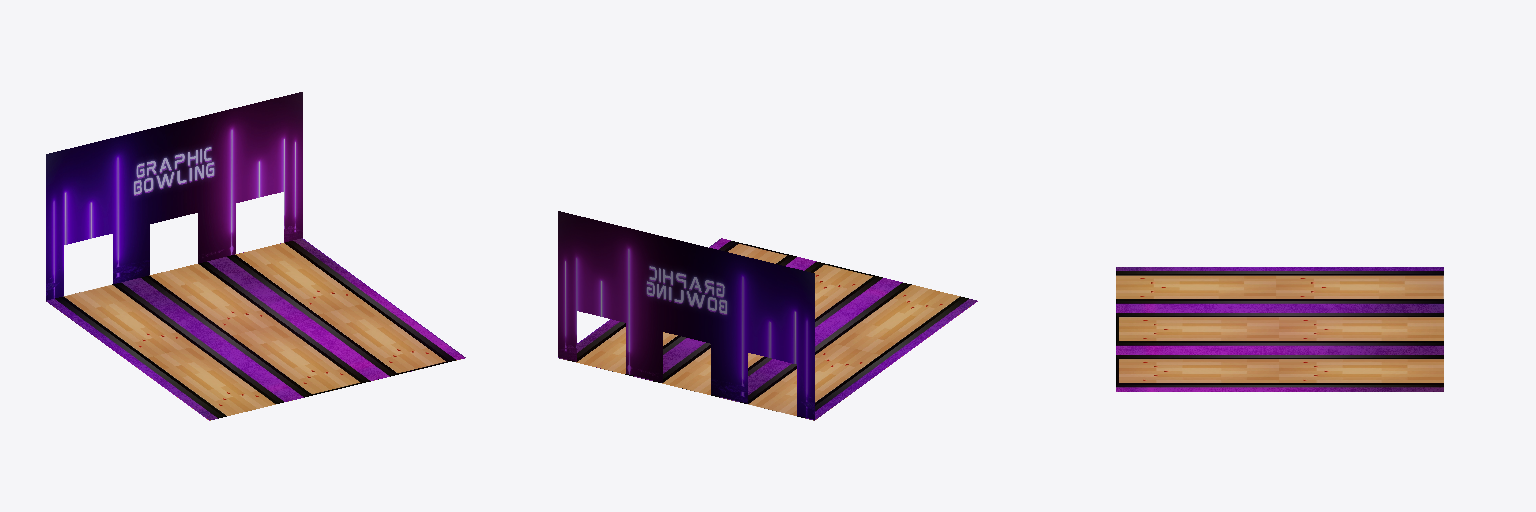
3 views of the same model, side by side, from view 1: azimuth 30°, elevation 25°; view 2: azimuth 150°, elevation 25°; view 3: azimuth 270°, elevation 25° (orthographic).
Visible parts, largest first — view 1: floor, Plane; view 2: Plane, floor; view 3: floor.
Boxes of the visible parts, x1=… form: floor: x1=46, y1=238, x2=465, y2=420; Plane: x1=46, y1=92, x2=302, y2=300; Plane: x1=558, y1=211, x2=814, y2=419; floor: x1=558, y1=238, x2=977, y2=420; floor: x1=1116, y1=267, x2=1443, y2=391.
Bounding box in the file's own units: 24.55 × 13.39 × 27.06.
Materials: 2 (2 with a texture image).